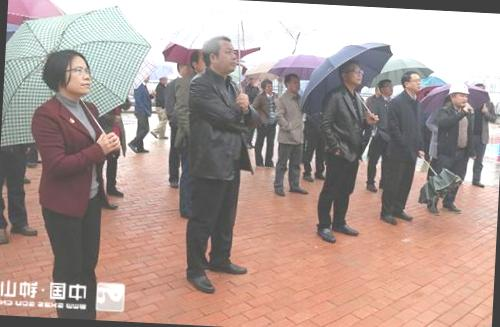no_helmet: (37, 44, 96, 104), (198, 32, 240, 78), (336, 56, 367, 88), (399, 69, 426, 96), (189, 48, 211, 74), (282, 70, 305, 94), (376, 74, 398, 98), (258, 76, 276, 94)
